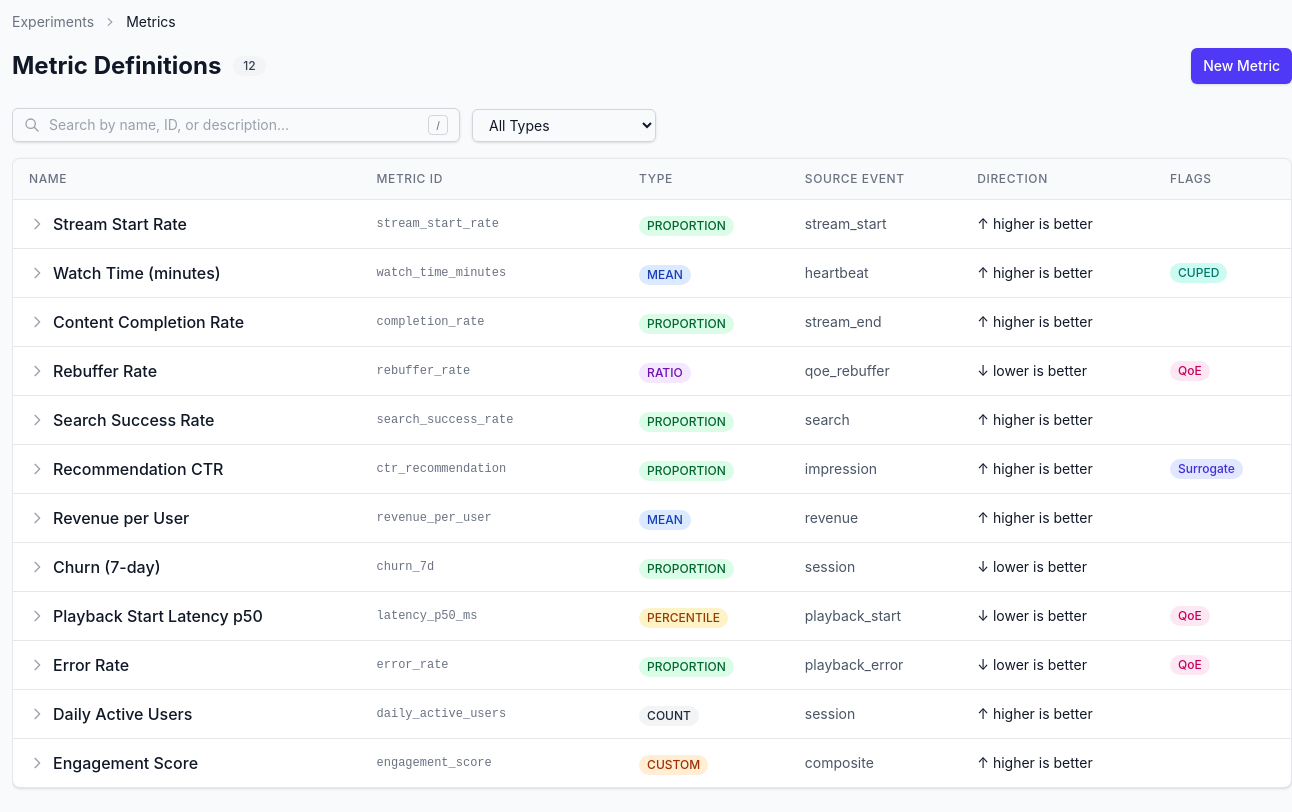
Metric Browser Page › searches by metric ID text
The width and height of the screenshot is (1292, 812).
Expected: the text "Stream Start Rate" is shown, top-left (53, 212), bottom-right (187, 236)
In the field with test id "metric-search": (236, 125) top-left (12, 108), bottom-right (460, 142), type "ctr_recommendation"
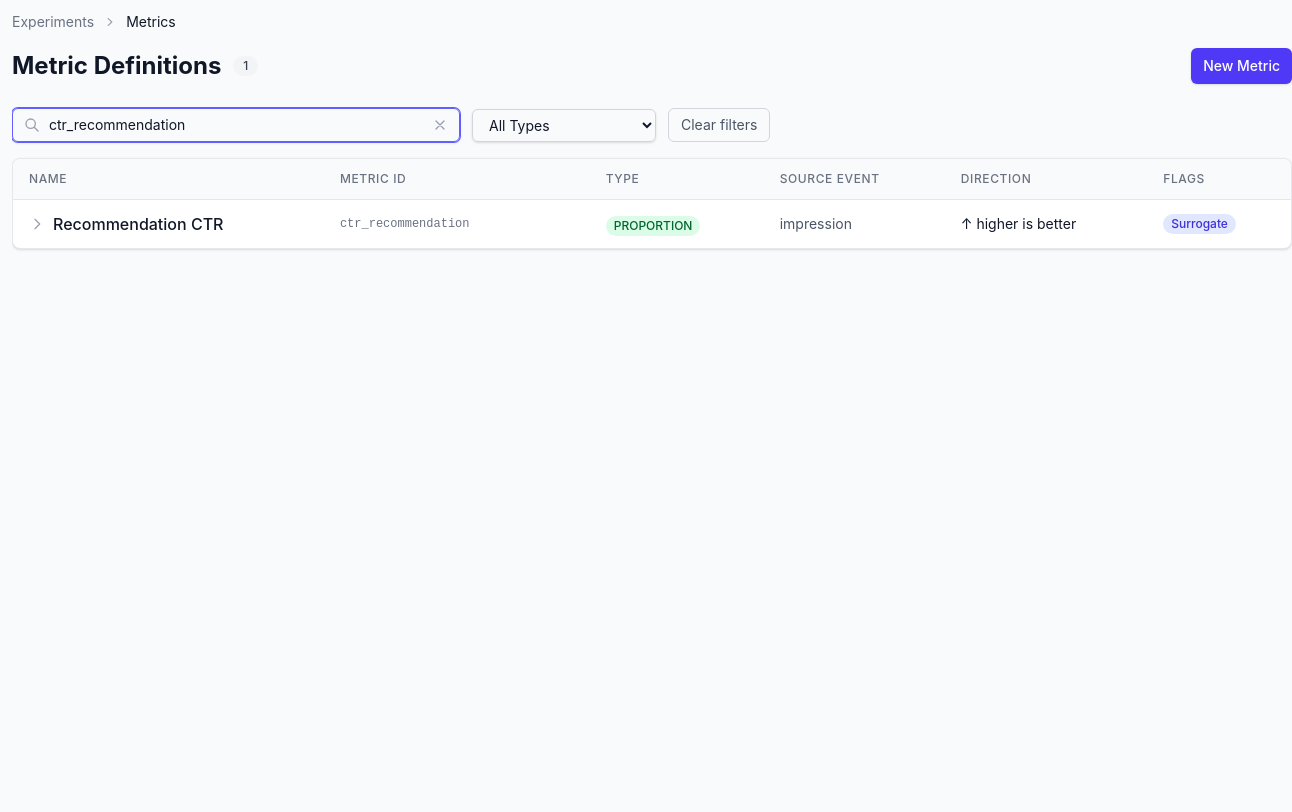
Expected: the text "Recommendation CTR" is shown, top-left (53, 212), bottom-right (224, 236)
Expected: the button "Stream Start Rate" is gone
